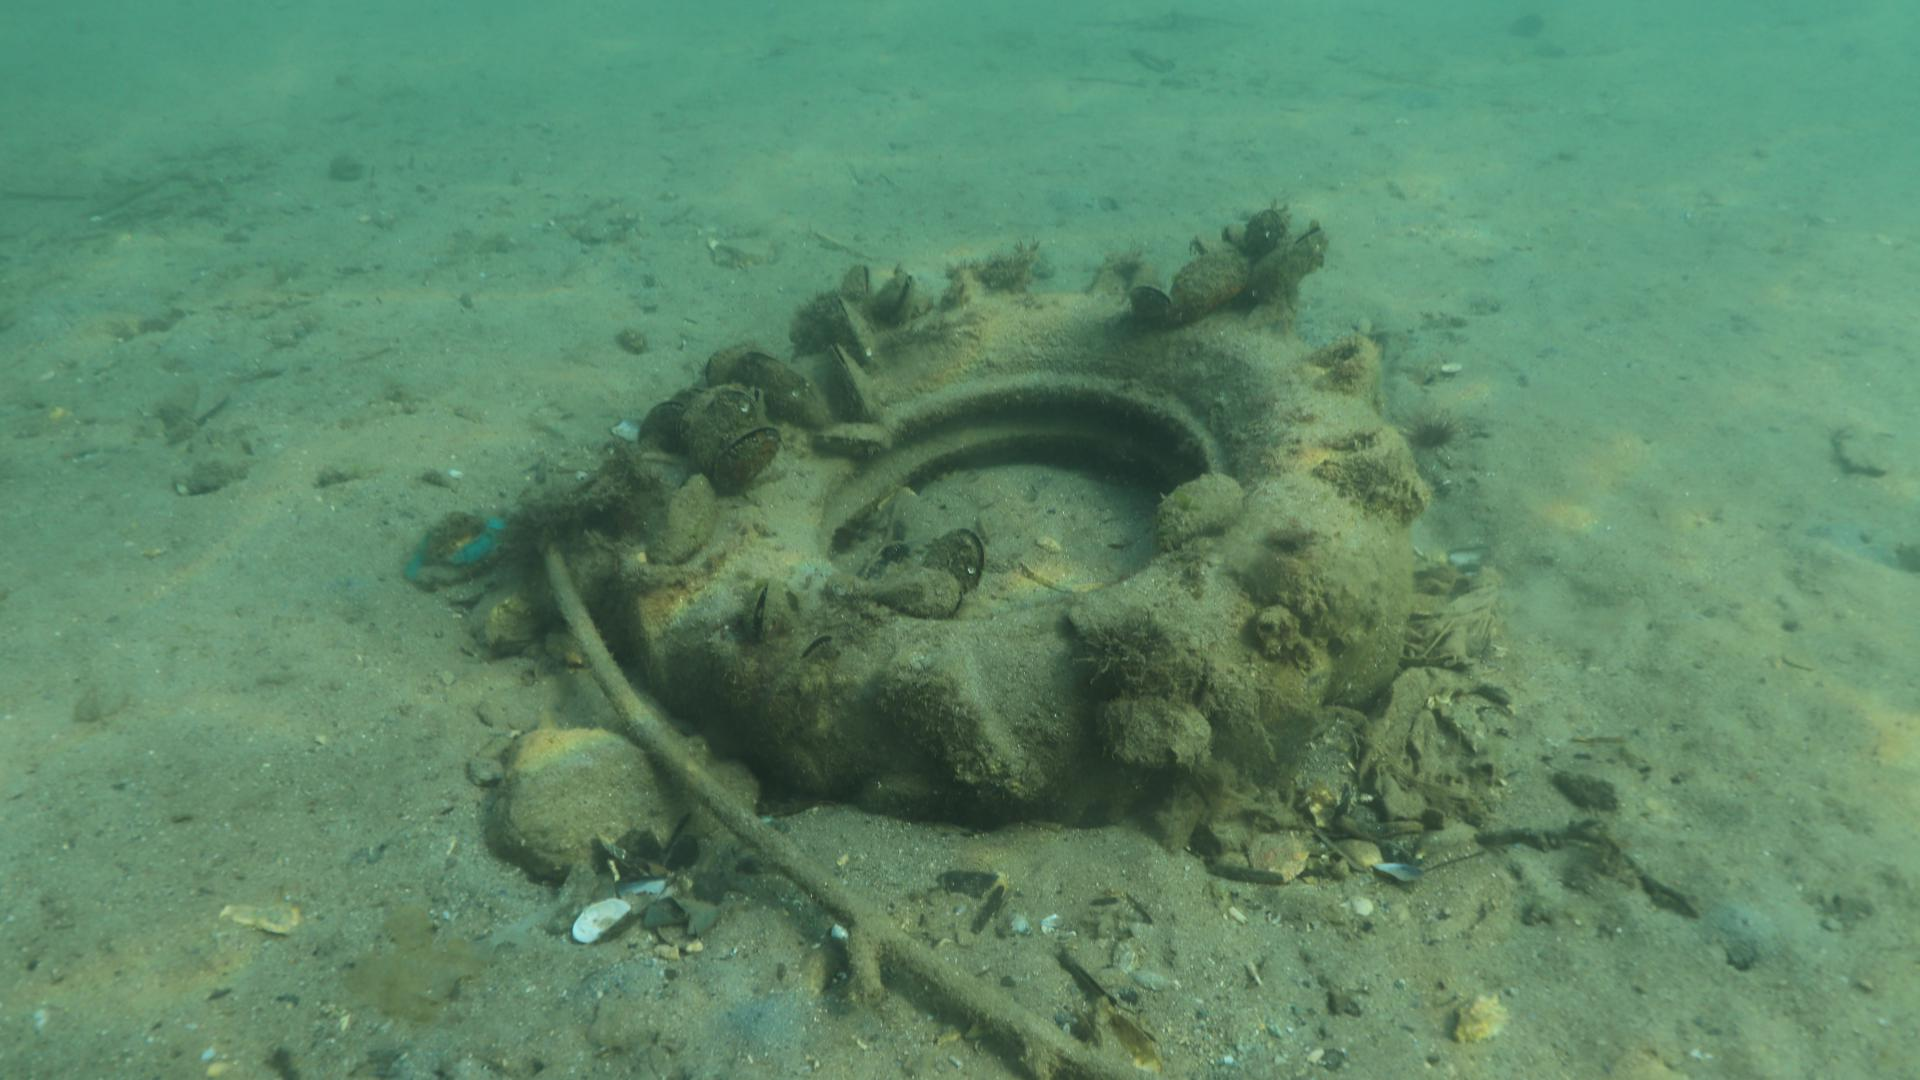tire: (601, 258, 1425, 824)
